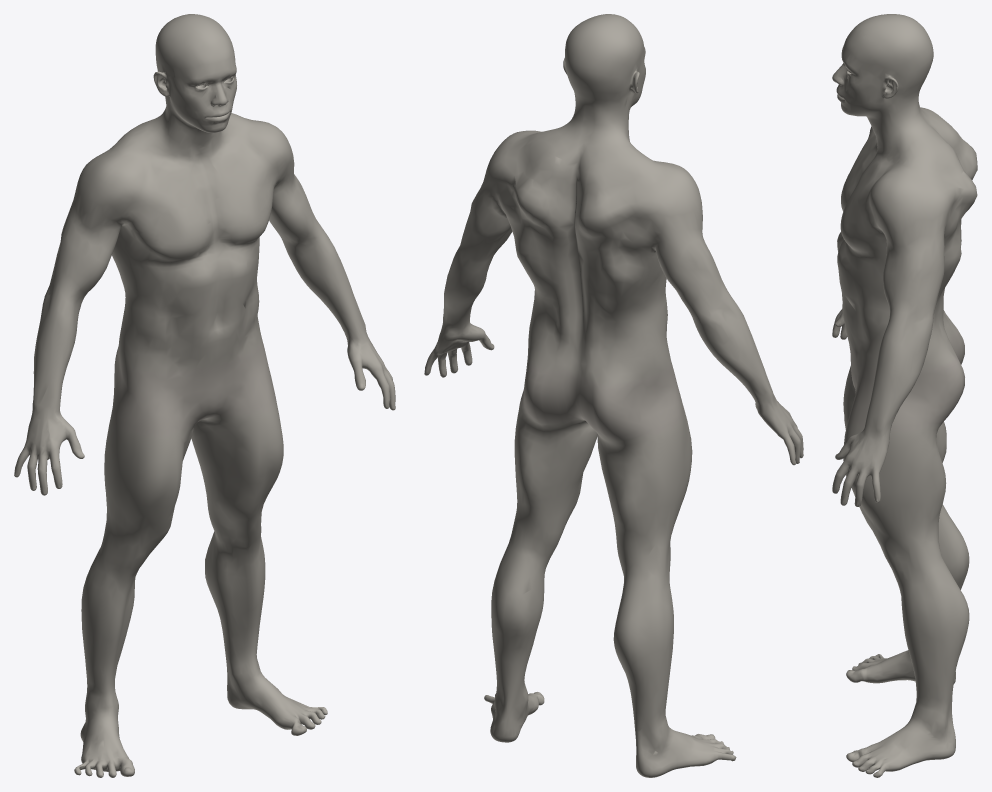
Rendered from male.glb.
3 views of the same model, side by side, from view 1: azimuth 30°, elevation 25°; view 2: azimuth 150°, elevation 25°; view 3: azimuth 270°, elevation 25° (orthographic). The views are drawn at different scales.
Parts seen in each view (by area): view 1: body; view 2: body; view 3: body.
Boxes of the visible parts, box(x1,y1,x2,y2) form: body: box(14, 14, 395, 777); body: box(424, 14, 803, 777); body: box(832, 14, 977, 777).
Size of what is drawn, in the model's own units: 0.9284 by 1.72 by 0.3218.
1 material, 1 textured.
